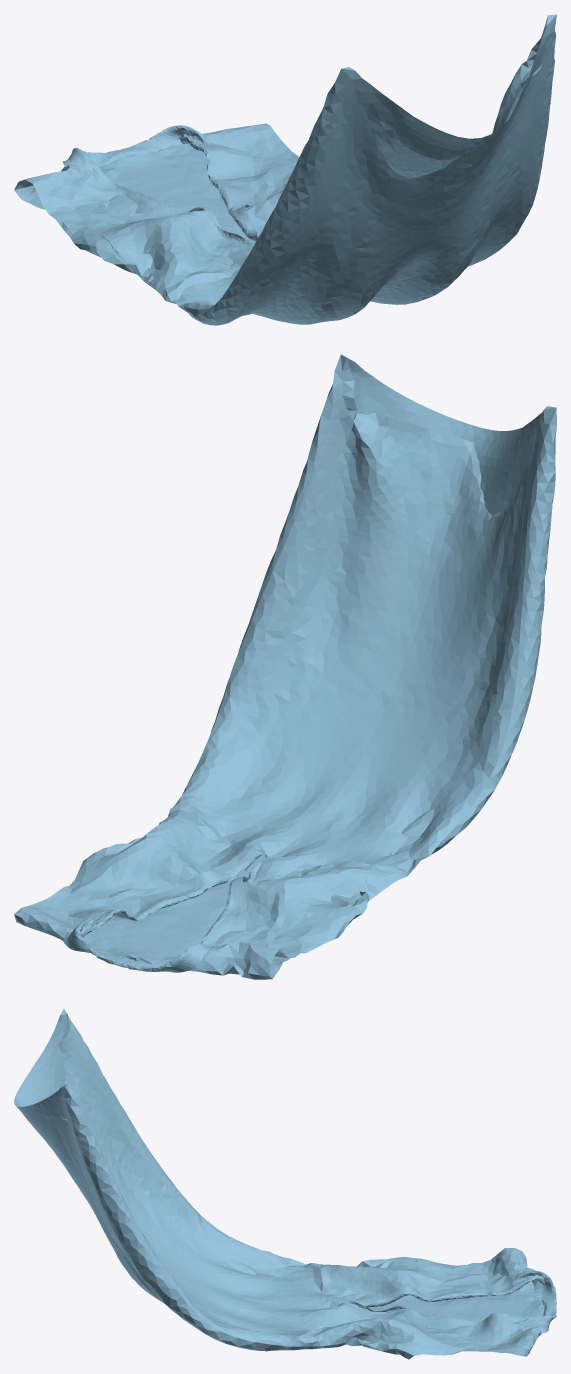
Rendered from frame_06.glb.
3 renders of one model, top to bottom at view 1: azimuth 30°, elevation 25°; view 2: azimuth 150°, elevation 25°; view 3: azimuth 270°, elevation 25°, orthographic. The views are drawn at different scales.
Parts seen in each view (by area): view 1: frame_06.obj; view 2: frame_06.obj; view 3: frame_06.obj.
Boxes of the visible parts, x1,y1,x2,y2 form: frame_06.obj: (14,14,556,325); frame_06.obj: (14,354,556,979); frame_06.obj: (14,1008,556,1359).
Bounding box in the file's own units: 0.6461 × 0.7665 × 1.42.
